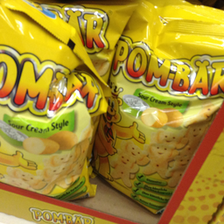chips: (97, 6, 222, 214), (1, 4, 98, 201)
